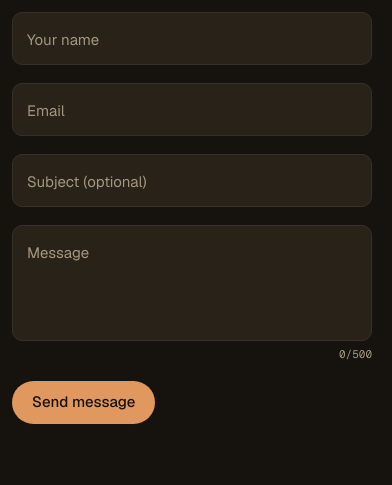
it: FloatingLabelForm — validation › submit with errors: flags every bad required field, skips optional ones, focuses the first bad field, doesn't send
This screenshot has width=392, height=485.
Step 1. Click the button "Send message" → (84, 402), box left=12, top=381, right=156, bottom=424
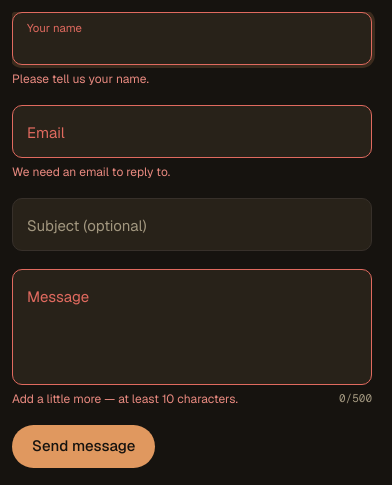
Expected: the text "We need an email to reply to." is shown, left=12, top=164, right=170, bottom=180
